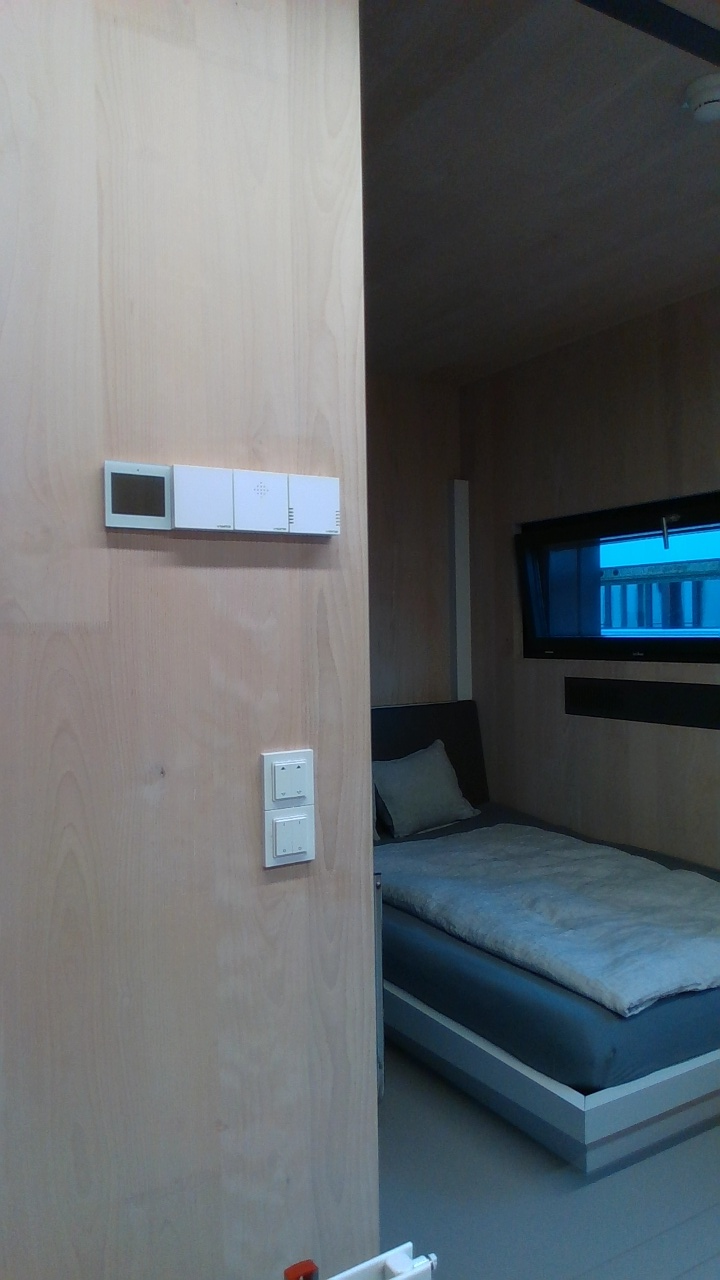Light_Switch: (264, 810, 315, 864), (265, 753, 313, 806)
